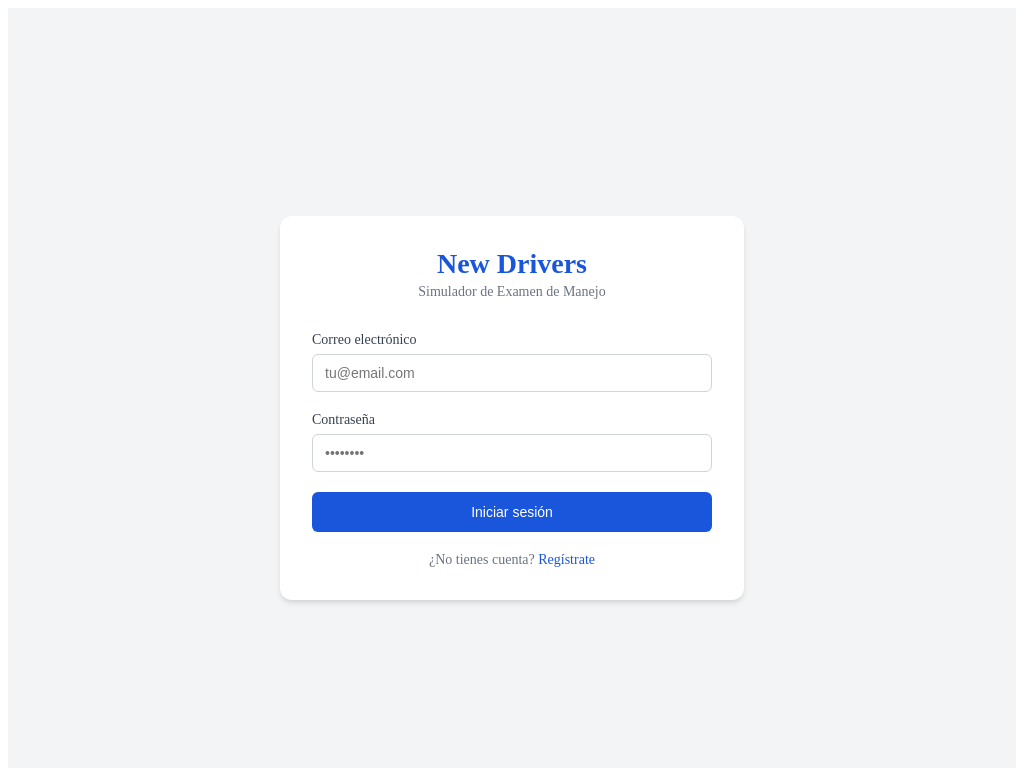
Login page – form validation › shows fallback error text when composable returns no error message
This screenshot has width=1024, height=768.
In the field with id "email": (512, 373) left=312, top=354, right=712, bottom=392, type "user@example.com"
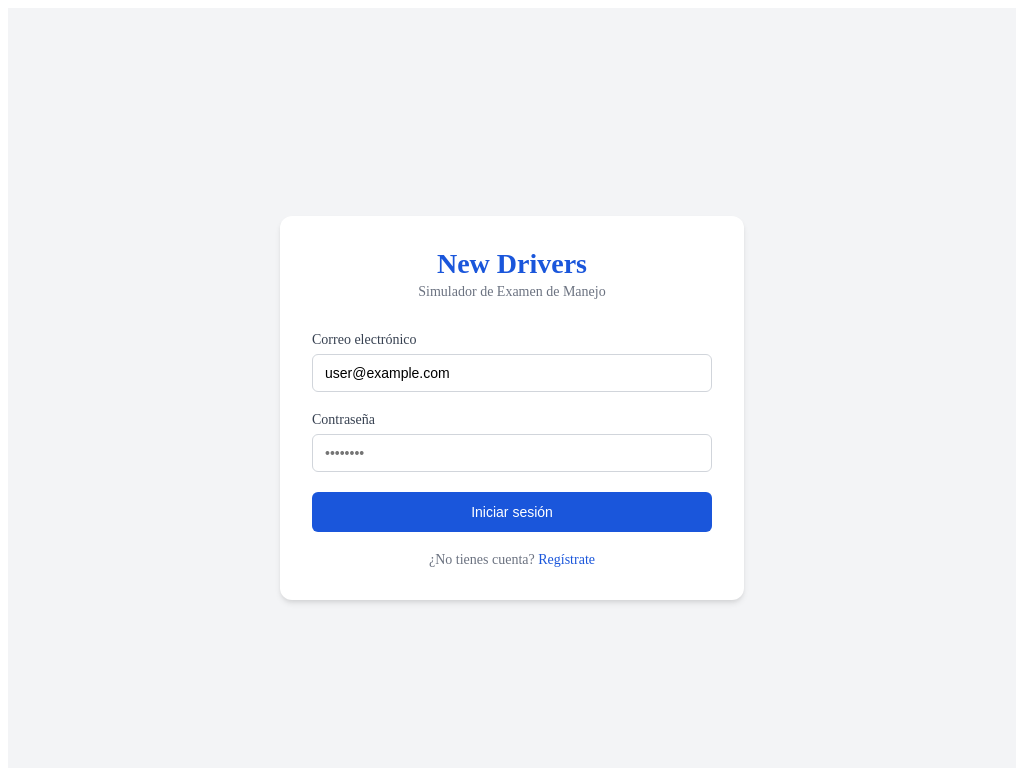
In the password field labelled "Contraseña": (512, 453) left=312, top=434, right=712, bottom=472, type "validpassword123"
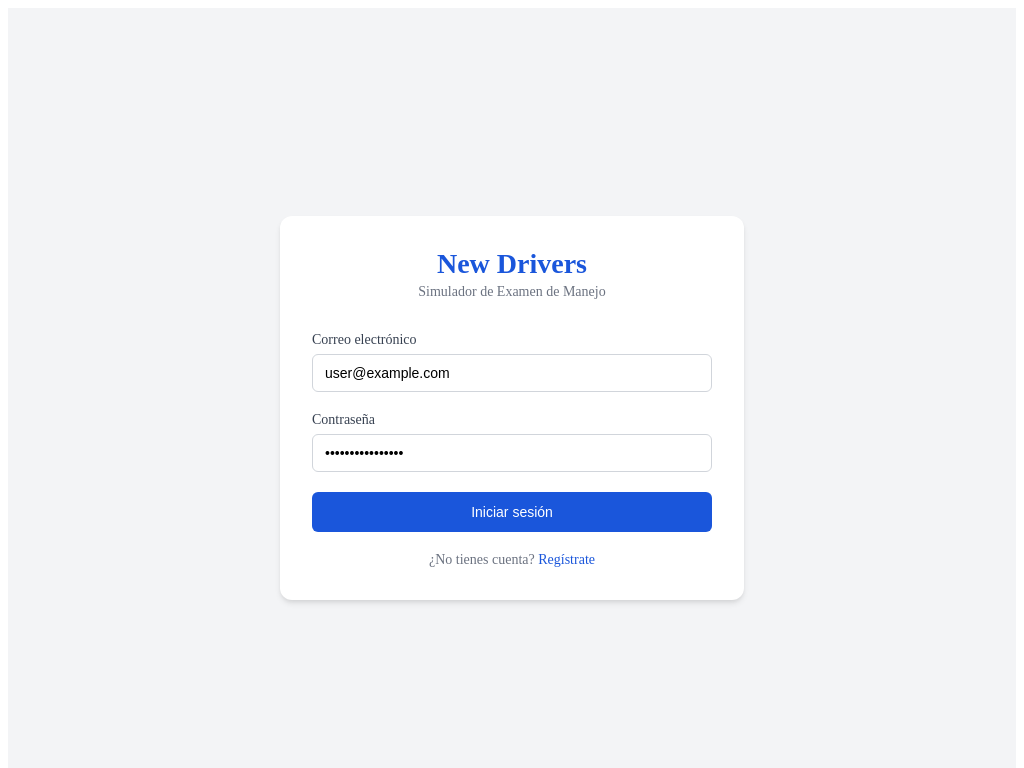
Submit the form, box left=312, top=332, right=712, bottom=532
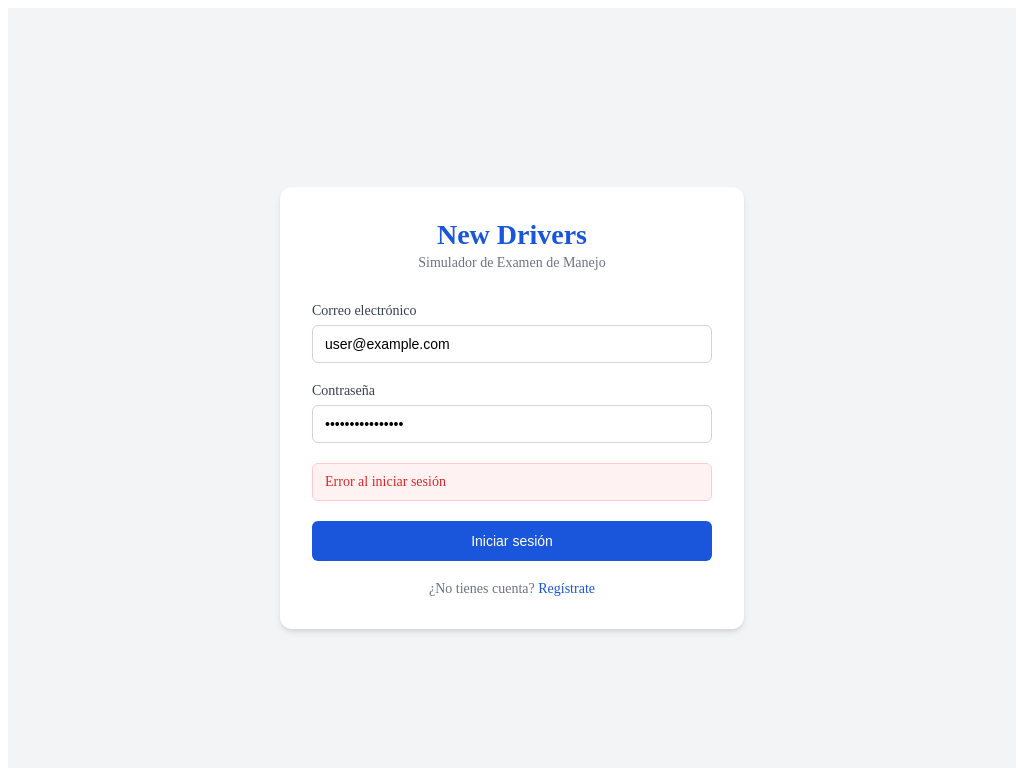
Check: the text "Error al iniciar sesión" is shown, box left=312, top=463, right=712, bottom=501
Check: the text with class "form-error" reads "Error al iniciar sesión", box left=325, top=474, right=446, bottom=489
